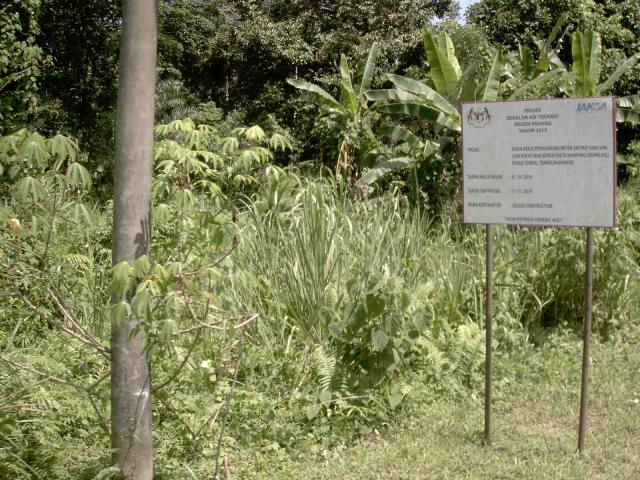ads_sign: (448, 90, 625, 240)
